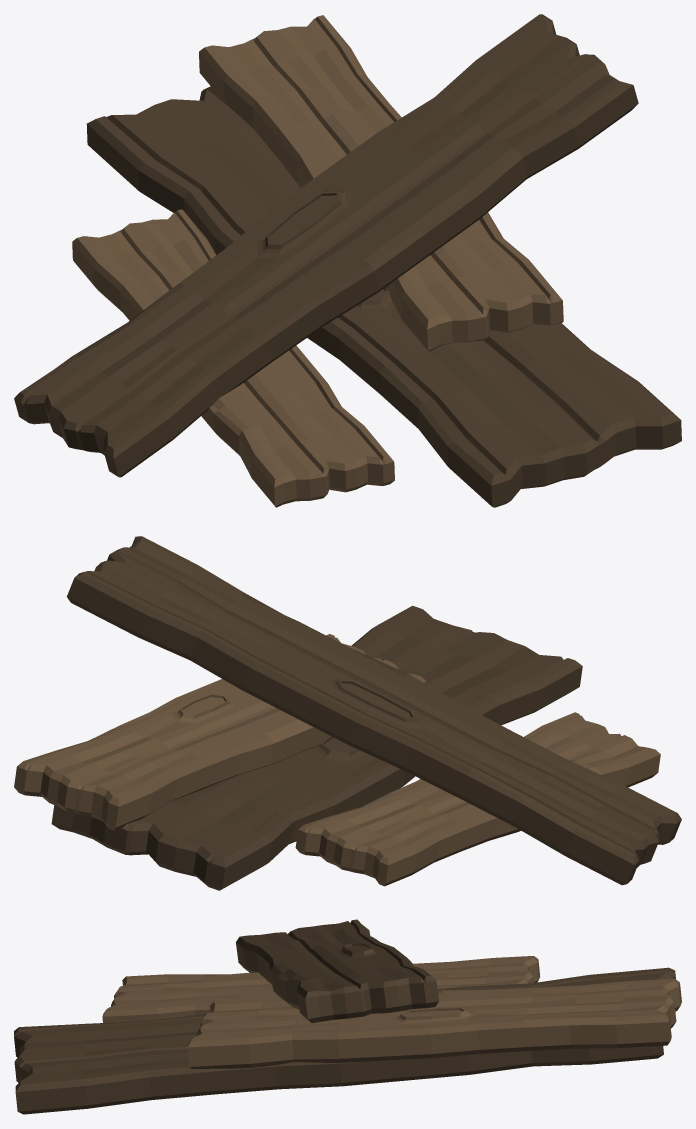
The model's file is Tablones.fbx.
3 renders of one model, top to bottom at view 1: azimuth 30°, elevation 25°; view 2: azimuth 150°, elevation 25°; view 3: azimuth 270°, elevation 25°, orthographic. The views are drawn at different scales.
Visible parts, largest first — view 1: Tablon_3, Tablon_1, Tablon_2, Tablon_4; view 2: Tablon_3, Tablon_1, Tablon_2, Tablon_4; view 3: Tablon_2, Tablon_1, Tablon_3, Tablon_4.
Boxes of the visible parts, x1,y1,x2,y2 form: Tablon_3: [14, 14, 638, 477]; Tablon_1: [86, 86, 681, 507]; Tablon_2: [199, 15, 563, 351]; Tablon_4: [72, 209, 394, 507]; Tablon_3: [67, 536, 681, 885]; Tablon_1: [51, 605, 582, 890]; Tablon_2: [14, 634, 426, 830]; Tablon_4: [295, 712, 660, 886]; Tablon_2: [187, 978, 681, 1068]; Tablon_1: [14, 967, 675, 1114]; Tablon_3: [236, 919, 438, 1023]; Tablon_4: [102, 956, 540, 1022].
Size of the model in its own units: 2.17 by 0.8788 by 2.57.
